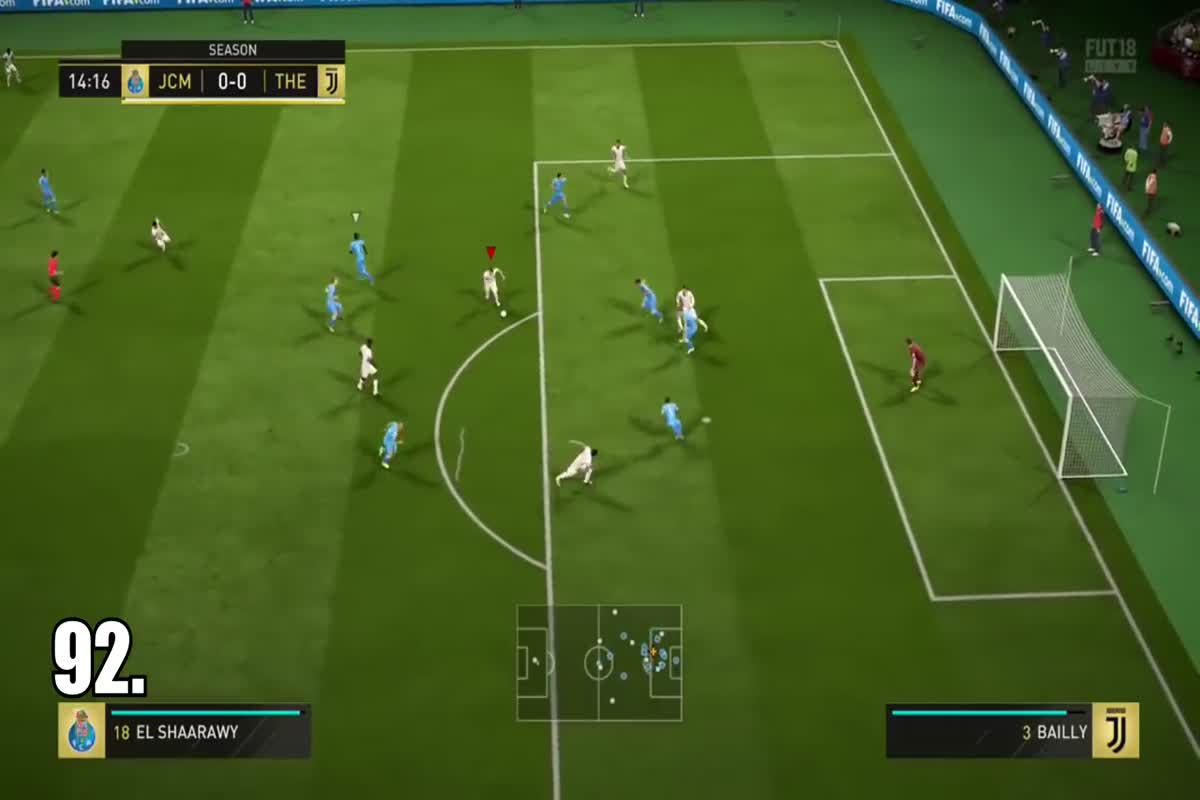ball: (492, 306, 513, 321)
